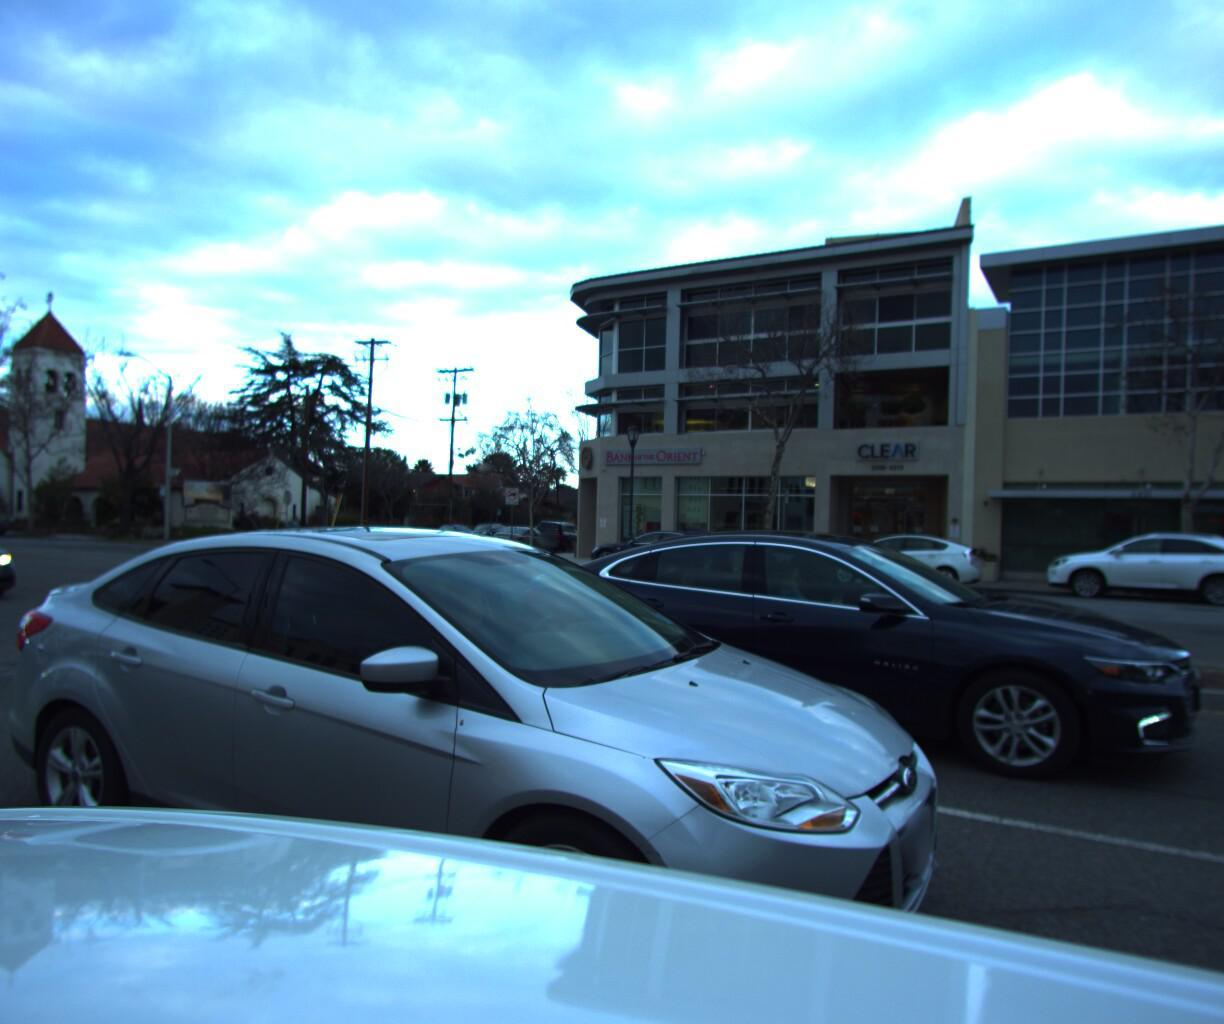car: (512, 518, 1224, 820), (1035, 521, 1224, 609), (805, 524, 985, 591), (577, 522, 739, 578), (481, 519, 557, 554), (526, 514, 589, 550), (461, 515, 510, 539), (426, 518, 478, 541), (678, 520, 706, 539)
